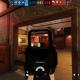Friend_label: (32, 31, 36, 33)
